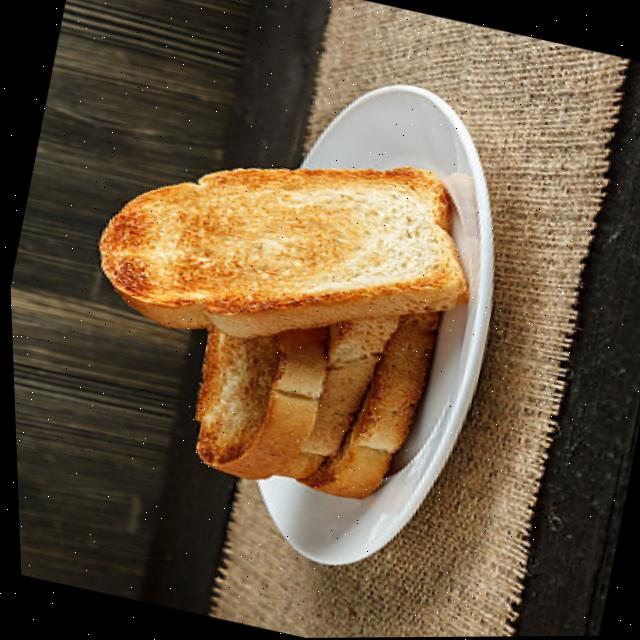Bread: (97, 168, 464, 337), (192, 328, 324, 479)
